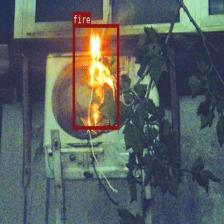fire: (72, 24, 118, 128)
